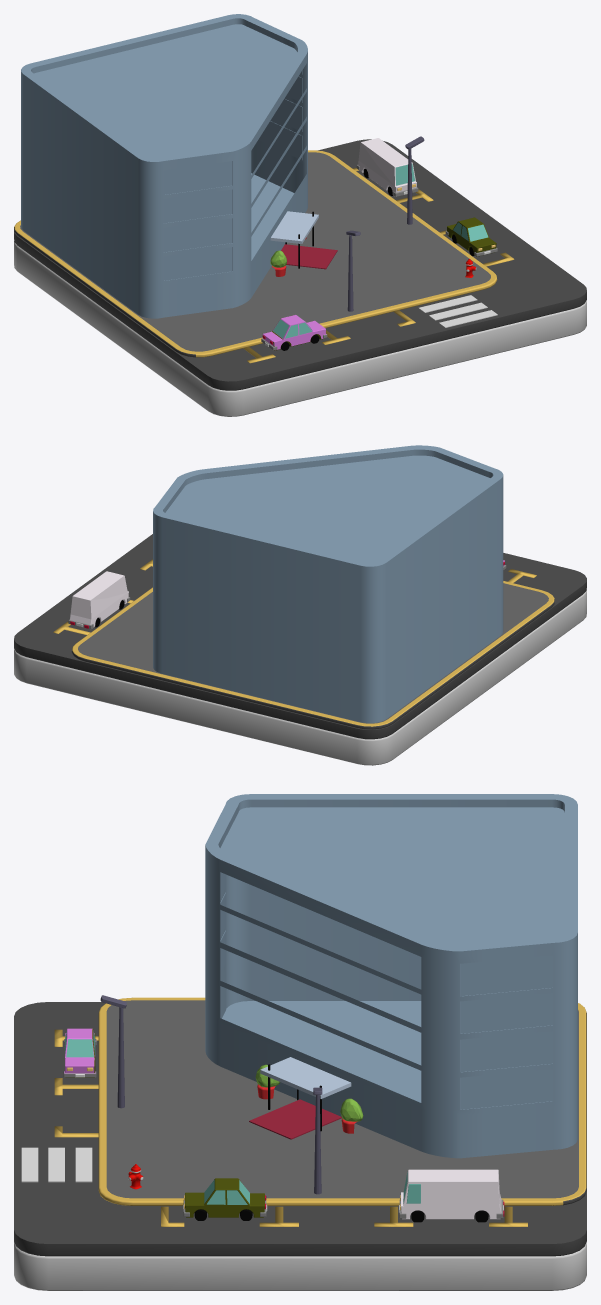
The model's file is record-company.glb.
3 renders of one model, top to bottom at view 1: azimuth 30°, elevation 25°; view 2: azimuth 150°, elevation 25°; view 3: azimuth 270°, elevation 25°, orthographic. The views are drawn at different scales.
Visible parts, largest first — view 1: office, concrete, asphalt.001, base, asphalt, Cube, car2, car1, pedestrian-crossing, red-carpet, parking-spot.003; view 2: office, base, concrete, asphalt.001, asphalt, Cube, parking-spot.003; view 3: office, concrete, asphalt.001, base, asphalt, Cube, car1, parking-spot.003, pedestrian-crossing, red-carpet, car2, lamps.001 (+1 smaller).
Boxes of the visible parts, bbox=[...] form: office: bbox=[21, 14, 318, 318]; concrete: bbox=[14, 150, 497, 357]; asphalt.001: bbox=[14, 139, 586, 381]; base: bbox=[14, 241, 586, 416]; asphalt: bbox=[14, 231, 586, 390]; Cube: bbox=[356, 138, 418, 196]; car2: bbox=[261, 315, 327, 350]; car1: bbox=[445, 217, 497, 256]; pedestrian-crossing: bbox=[418, 295, 497, 327]; red-carpet: bbox=[281, 244, 337, 269]; parking-spot.003: bbox=[243, 167, 514, 363]; office: bbox=[153, 445, 503, 723]; base: bbox=[14, 589, 586, 765]; concrete: bbox=[71, 581, 554, 729]; asphalt.001: bbox=[14, 534, 586, 729]; asphalt: bbox=[14, 580, 586, 739]; Cube: bbox=[68, 571, 130, 628]; parking-spot.003: bbox=[53, 559, 536, 634]; office: bbox=[205, 794, 577, 1158]; concrete: bbox=[98, 997, 586, 1205]; asphalt.001: bbox=[14, 1002, 586, 1243]; base: bbox=[14, 1241, 586, 1290]; asphalt: bbox=[14, 1230, 586, 1256]; Cube: bbox=[398, 1169, 504, 1222]; car1: bbox=[183, 1178, 267, 1220]; parking-spot.003: bbox=[54, 1029, 527, 1226]; pedestrian-crossing: bbox=[21, 1147, 92, 1182]; red-carpet: bbox=[249, 1099, 341, 1139]; car2: bbox=[63, 1028, 96, 1077]; lamps.001: bbox=[100, 995, 126, 1108].
Size of the model in its own units: 10 by 5 by 10.
